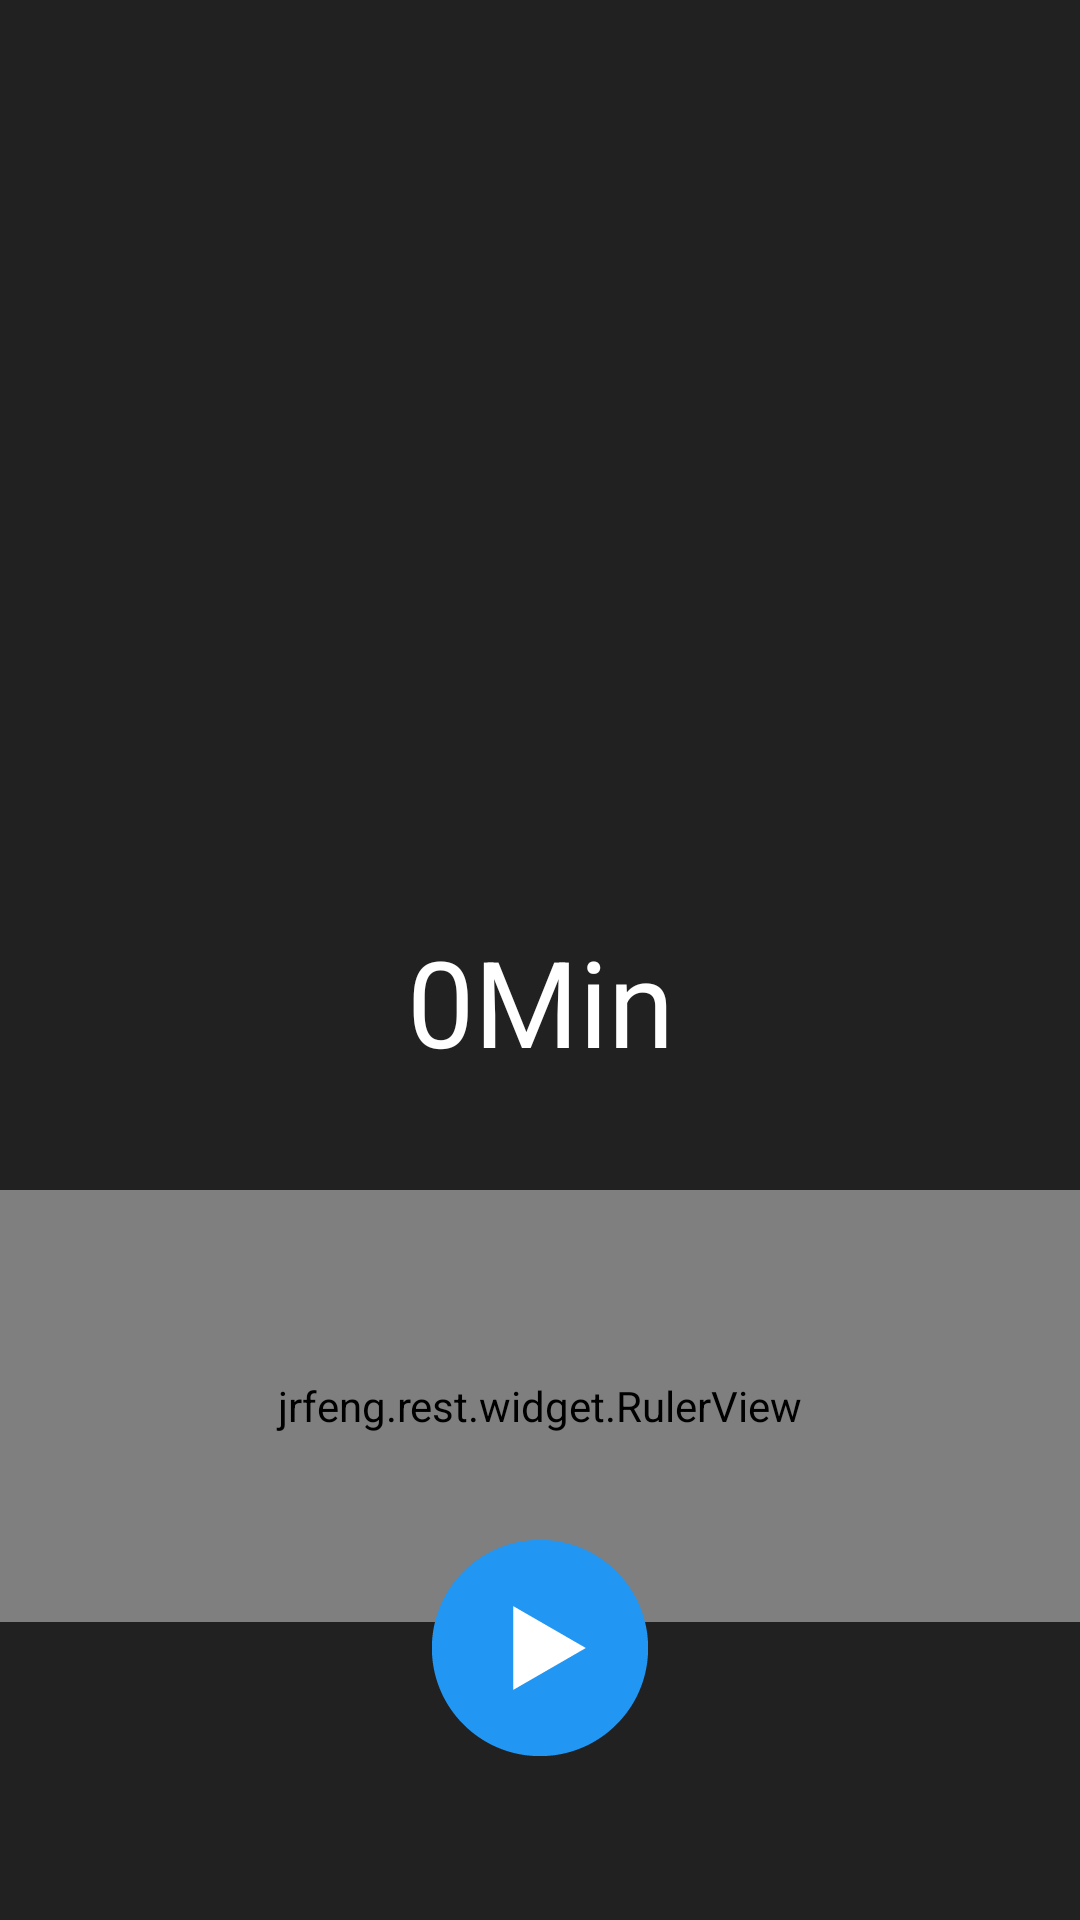

Named icons in this screenshot (1080px×1920px) and their centers, point (x, y):
Start: point (540, 1648)
